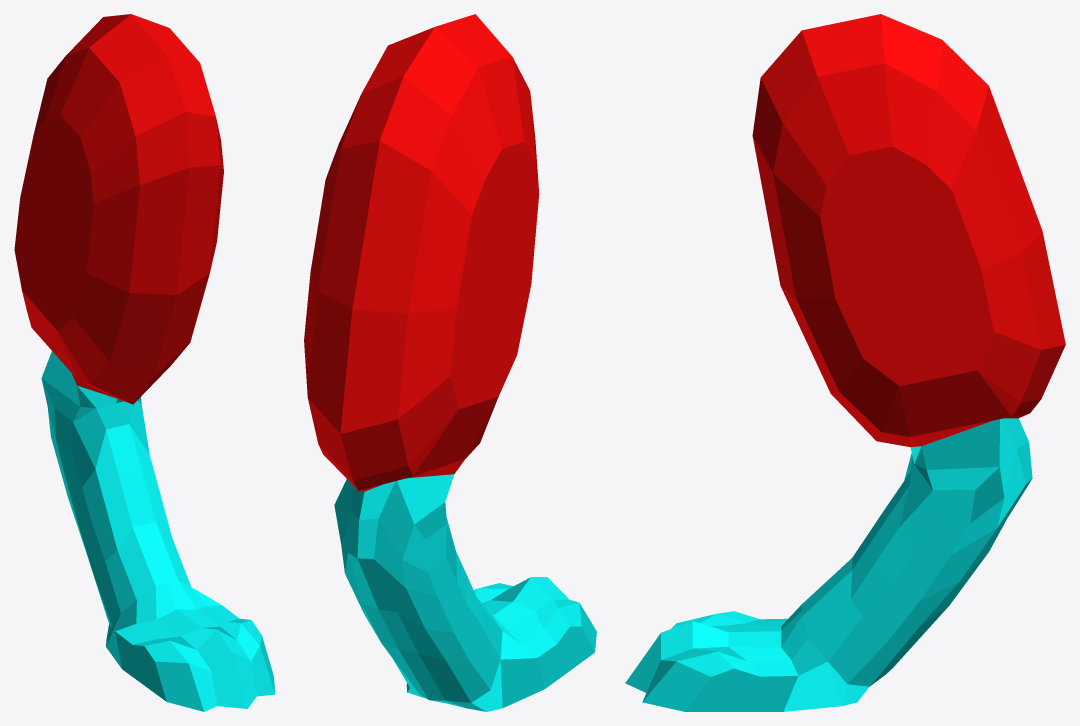
File: Mo_Snat_Arm.fbx
The picture shows the model from 3 angles, left to right: view 1: azimuth 30°, elevation 25°; view 2: azimuth 150°, elevation 25°; view 3: azimuth 270°, elevation 25°; orthographic projection. The views are drawn at different scales.
Parts seen in each view (by area): view 1: Arm.001; view 2: Arm.001; view 3: Arm.001.
Boxes of the visible parts, bbox=[...] form: Arm.001: bbox=[14, 14, 275, 711]; Arm.001: bbox=[304, 14, 596, 711]; Arm.001: bbox=[625, 14, 1065, 711].
Size of the model in its own units: 61.35 by 274 by 163.
